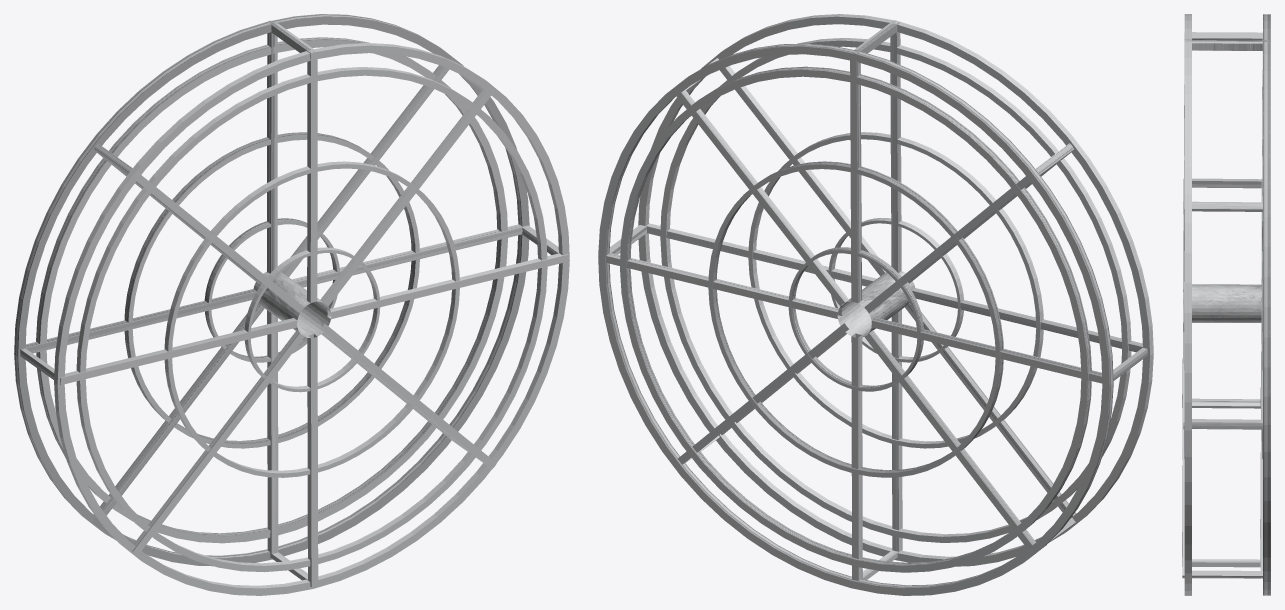
The model's file is wheel.obj.
3 renders of one model, left to right at view 1: azimuth 30°, elevation 25°; view 2: azimuth 150°, elevation 25°; view 3: azimuth 270°, elevation 25°, orthographic.
Visible parts, largest first — view 1: Cylinder; view 2: Cylinder; view 3: Cylinder.
Part boxes in pixels (<box>): Cylinder: <box>14,14,569,595</box>; Cylinder: <box>598,14,1153,595</box>; Cylinder: <box>1182,14,1270,595</box>.
Size of the model in its own units: 20.08 by 20.09 by 3.07.
1 material, 1 textured.
